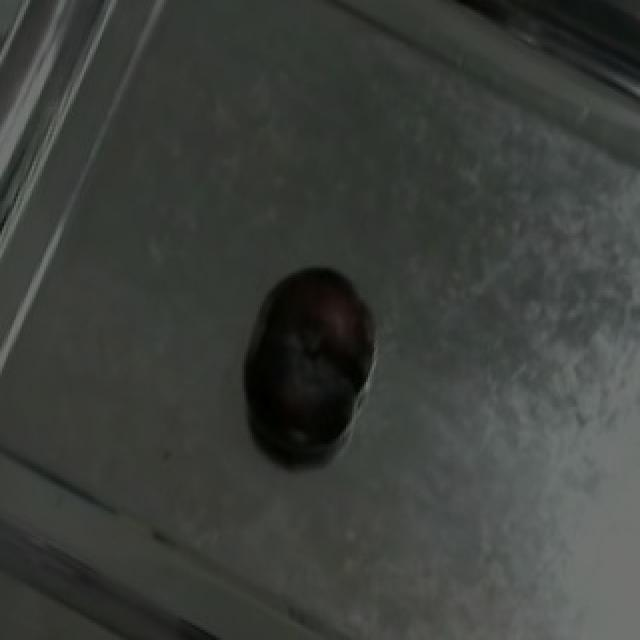Fruit: (234, 246, 386, 457)
